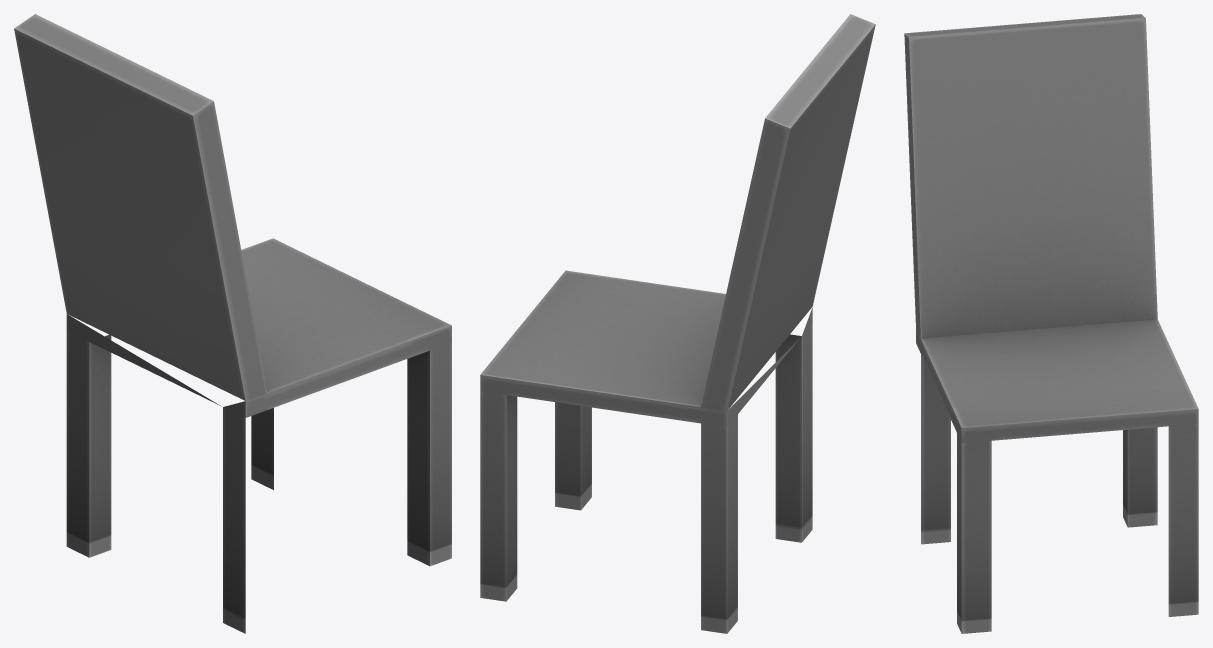
Rendered from bar_mesh.004_lev1.glb.
3 renders of one model, left to right at view 1: azimuth 30°, elevation 25°; view 2: azimuth 150°, elevation 25°; view 3: azimuth 270°, elevation 25°, orthographic. The views are drawn at different scales.
Parts seen in each view (by area): view 1: bar_mesh.004_lev1; view 2: bar_mesh.004_lev1; view 3: bar_mesh.004_lev1.
Boxes of the visible parts, left/top/right/bottom form: bar_mesh.004_lev1: left=14, top=14, right=451, bottom=633; bar_mesh.004_lev1: left=480, top=14, right=875, bottom=633; bar_mesh.004_lev1: left=904, top=14, right=1198, bottom=633.
Size of the model in its own units: 1.86 by 2.88 by 1.6.
Materials: 1 (1 with a texture image).
